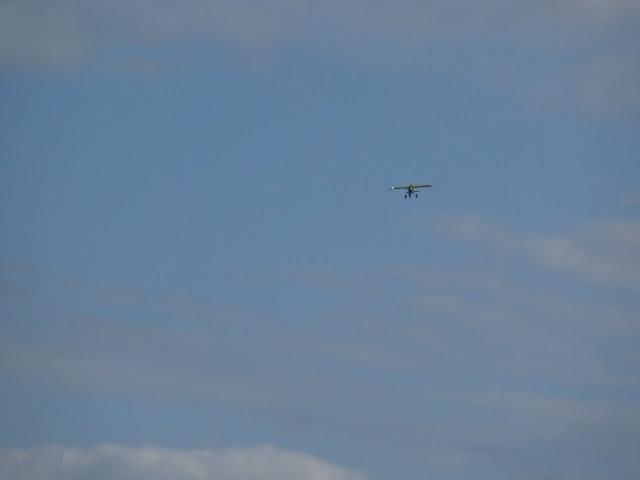plane: (389, 184, 434, 199)
